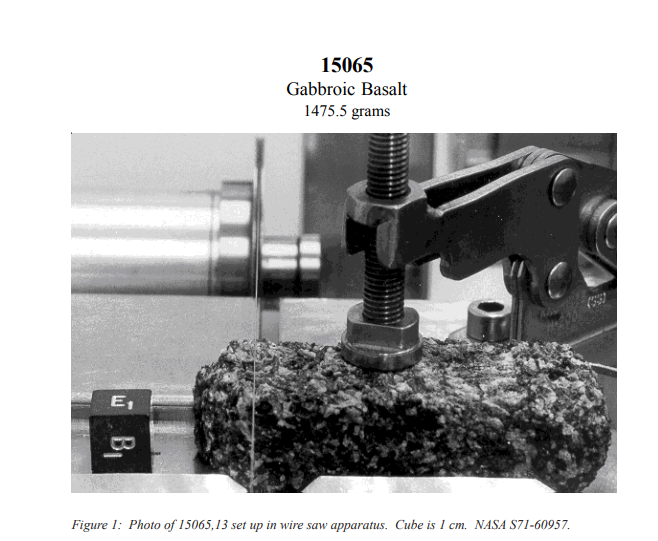Basalt: (189, 348, 602, 493)
